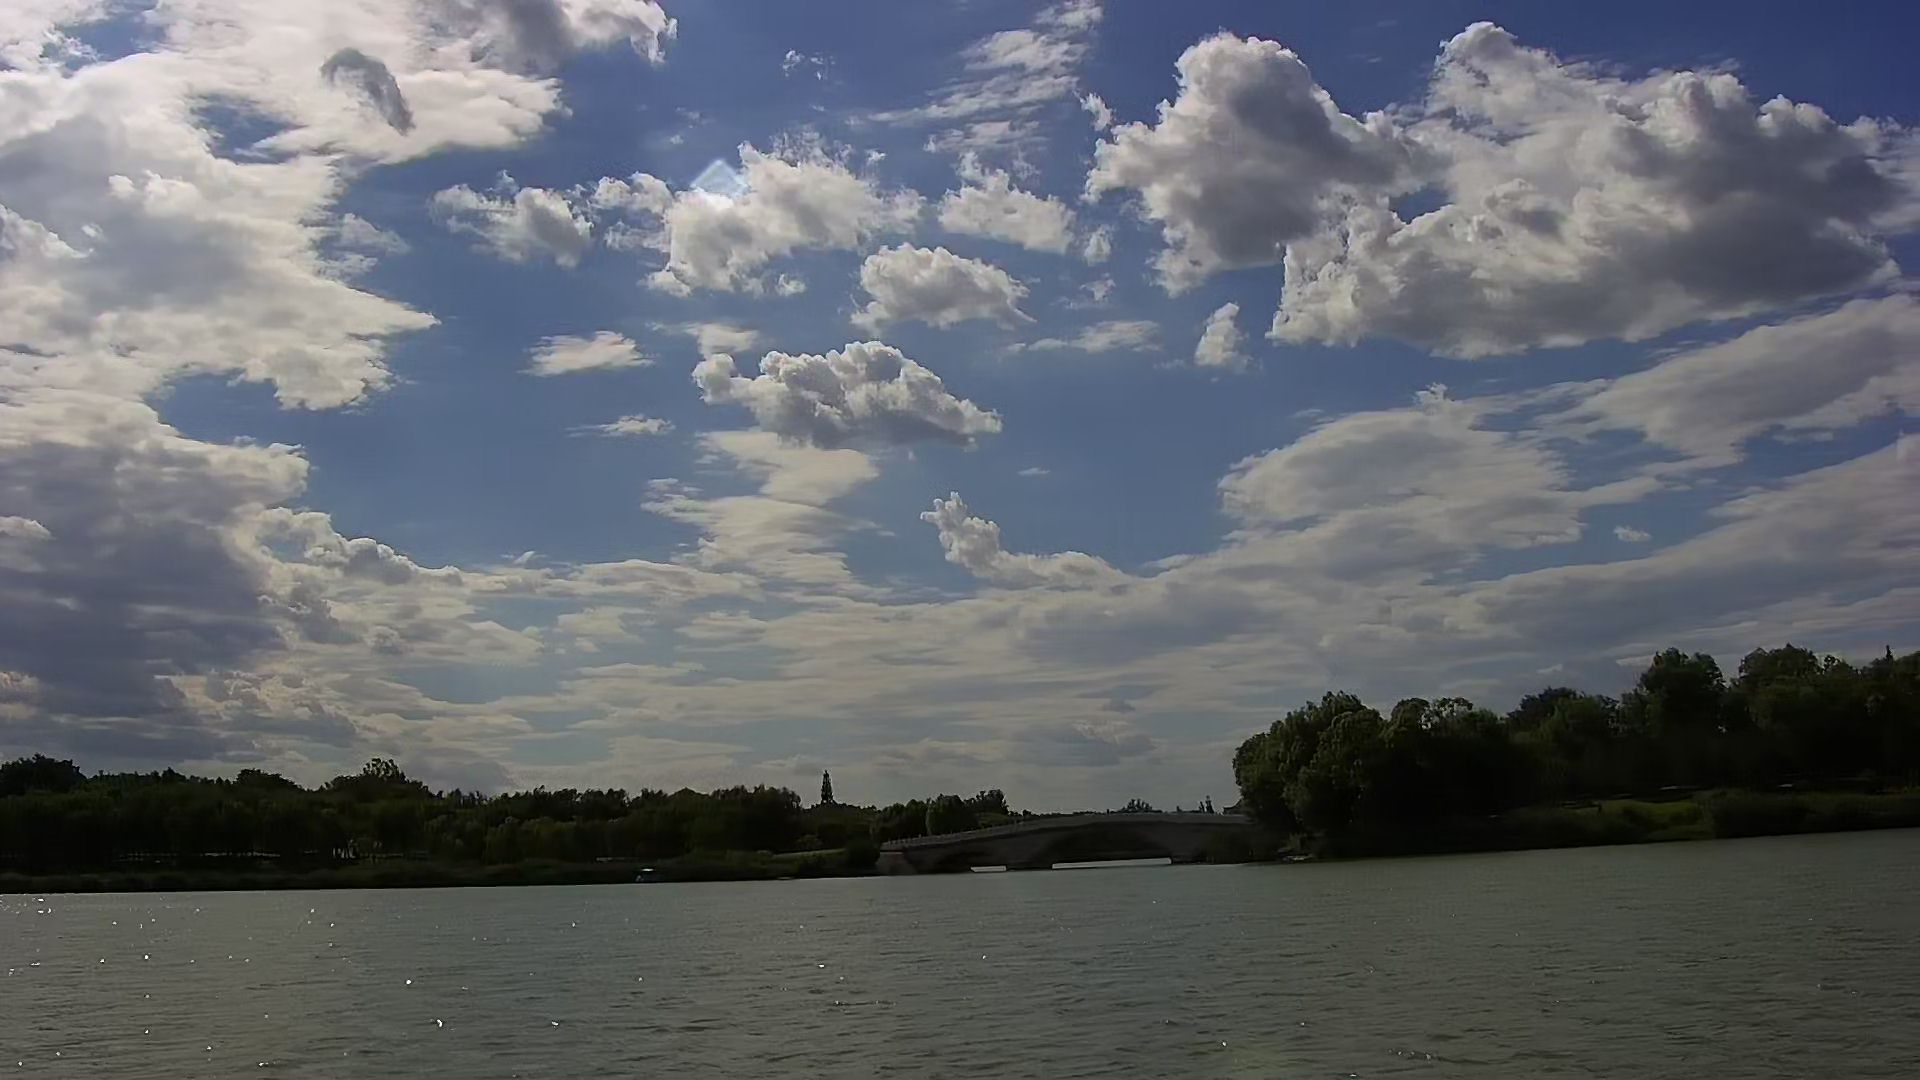bridge: (868, 802, 1254, 873)
